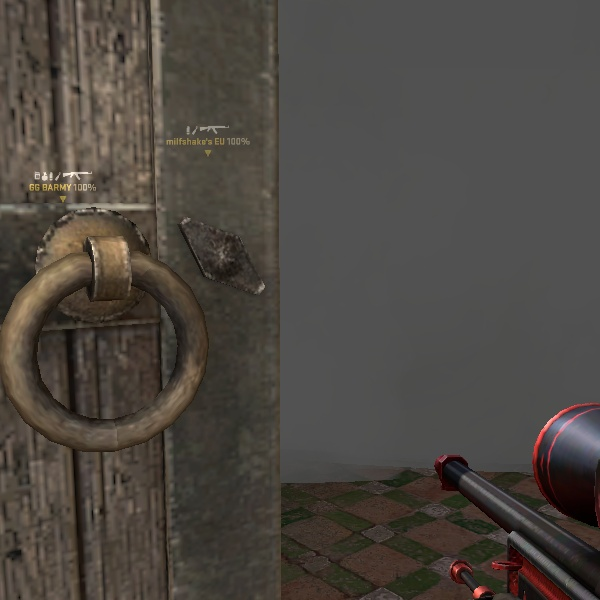t_head: (494, 355, 600, 593)
